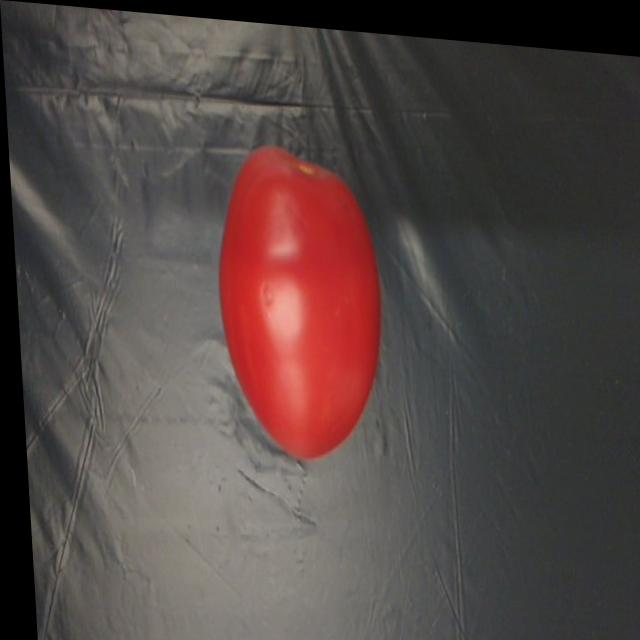kirmizi: (195, 128, 401, 474)
